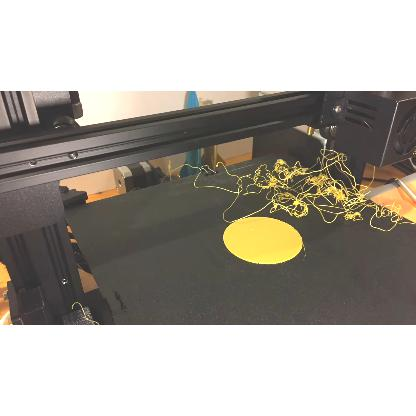fail: (249, 146, 410, 230)
